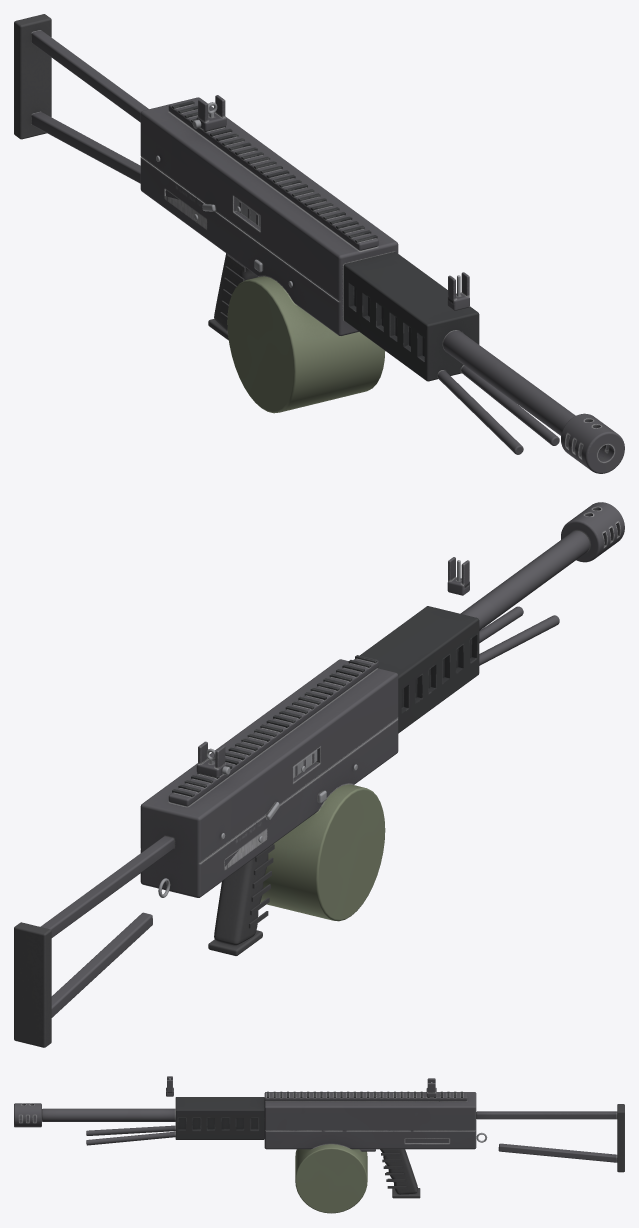
File: negev.fbx
The picture shows the model from 3 angles, top to bottom: view 1: azimuth 30°, elevation 25°; view 2: azimuth 150°, elevation 25°; view 3: azimuth 270°, elevation 25°; orthographic projection. The views are drawn at different scales.
Parts seen in each view (by area): view 1: negev; view 2: negev; view 3: negev.
Part boxes in pixels (x1,y1,x2,y2): negev: (14,14,624,473); negev: (14,502,624,1047); negev: (14,1076,624,1213).
Bounding box in the file's own units: 0.1 × 0.245 × 1.1.
